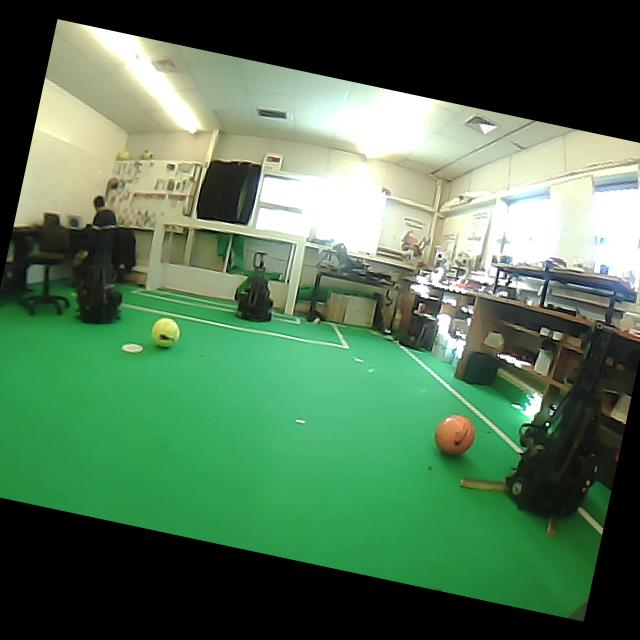ball: (434, 414, 474, 454), (151, 317, 179, 347), (115, 149, 130, 160), (140, 149, 153, 159)
goal: (283, 236, 305, 314), (144, 221, 164, 289)
robot: (504, 328, 611, 516), (76, 265, 122, 323), (235, 251, 271, 321)
